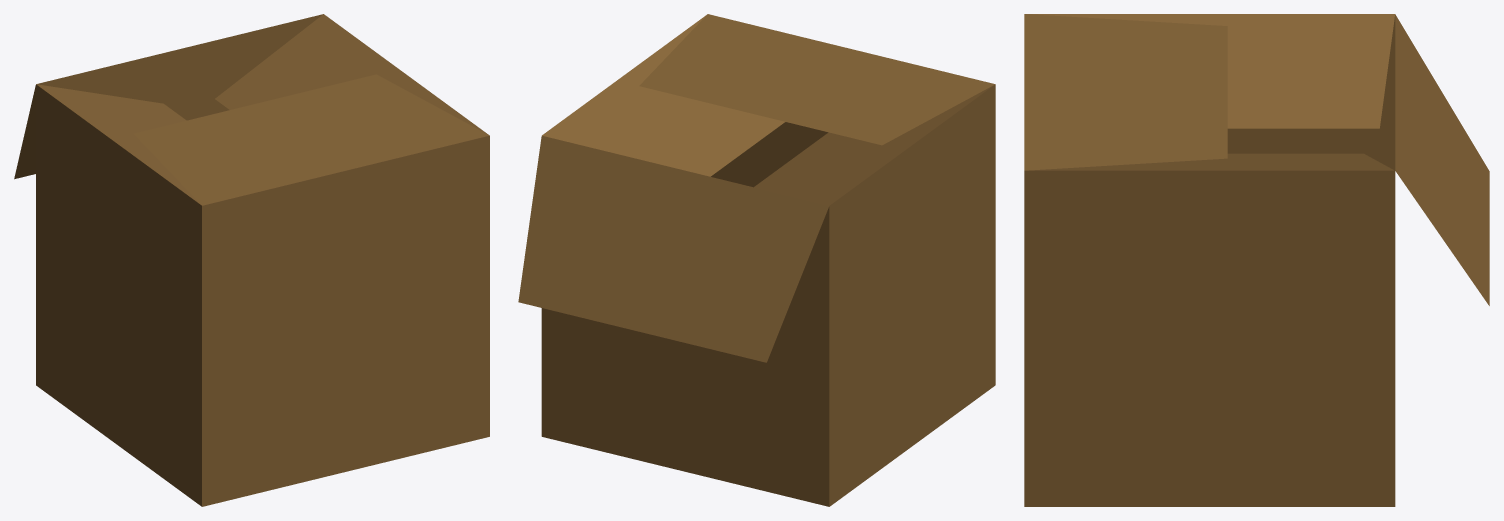
File: Caixa3.fbx
3 views of the same model, side by side, from view 1: azimuth 30°, elevation 25°; view 2: azimuth 150°, elevation 25°; view 3: azimuth 270°, elevation 25° (orthographic). The views are drawn at different scales.
Parts seen in each view (by area): view 1: Cube.074; view 2: Cube.074; view 3: Cube.074.
Part boxes in pixels (bbox=[...]): Cube.074: bbox=[14, 14, 489, 506]; Cube.074: bbox=[518, 14, 995, 506]; Cube.074: bbox=[1024, 14, 1489, 506].
Size of the model in its own units: 291 by 291 by 365.
